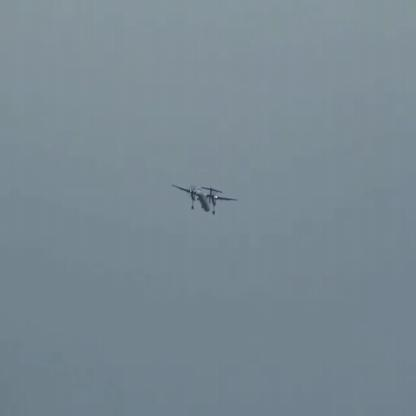CIV_Plane: (172, 183, 238, 216)
